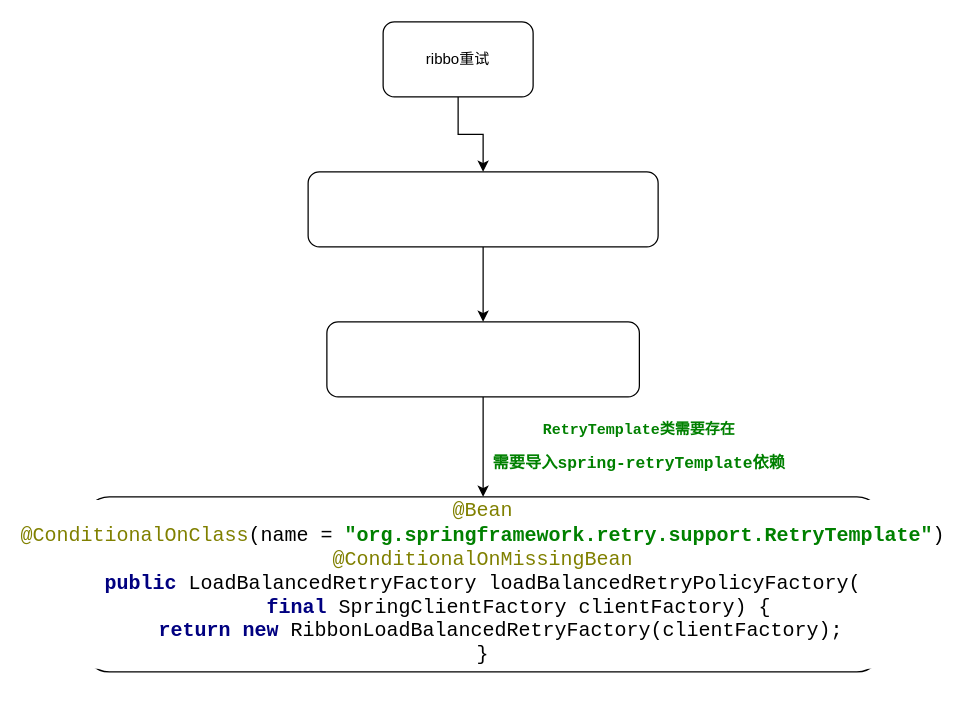
Some shapes in this 966 by 710 pixel diagram are drawn without their labels. Each missing label, with the centre of its shape:
RibbonAutoConfiguration: the point at 482,359
spring-cloud-netflix-ribbon-2.1.2.RELEASE.jar spring.factories: the point at 482,209
